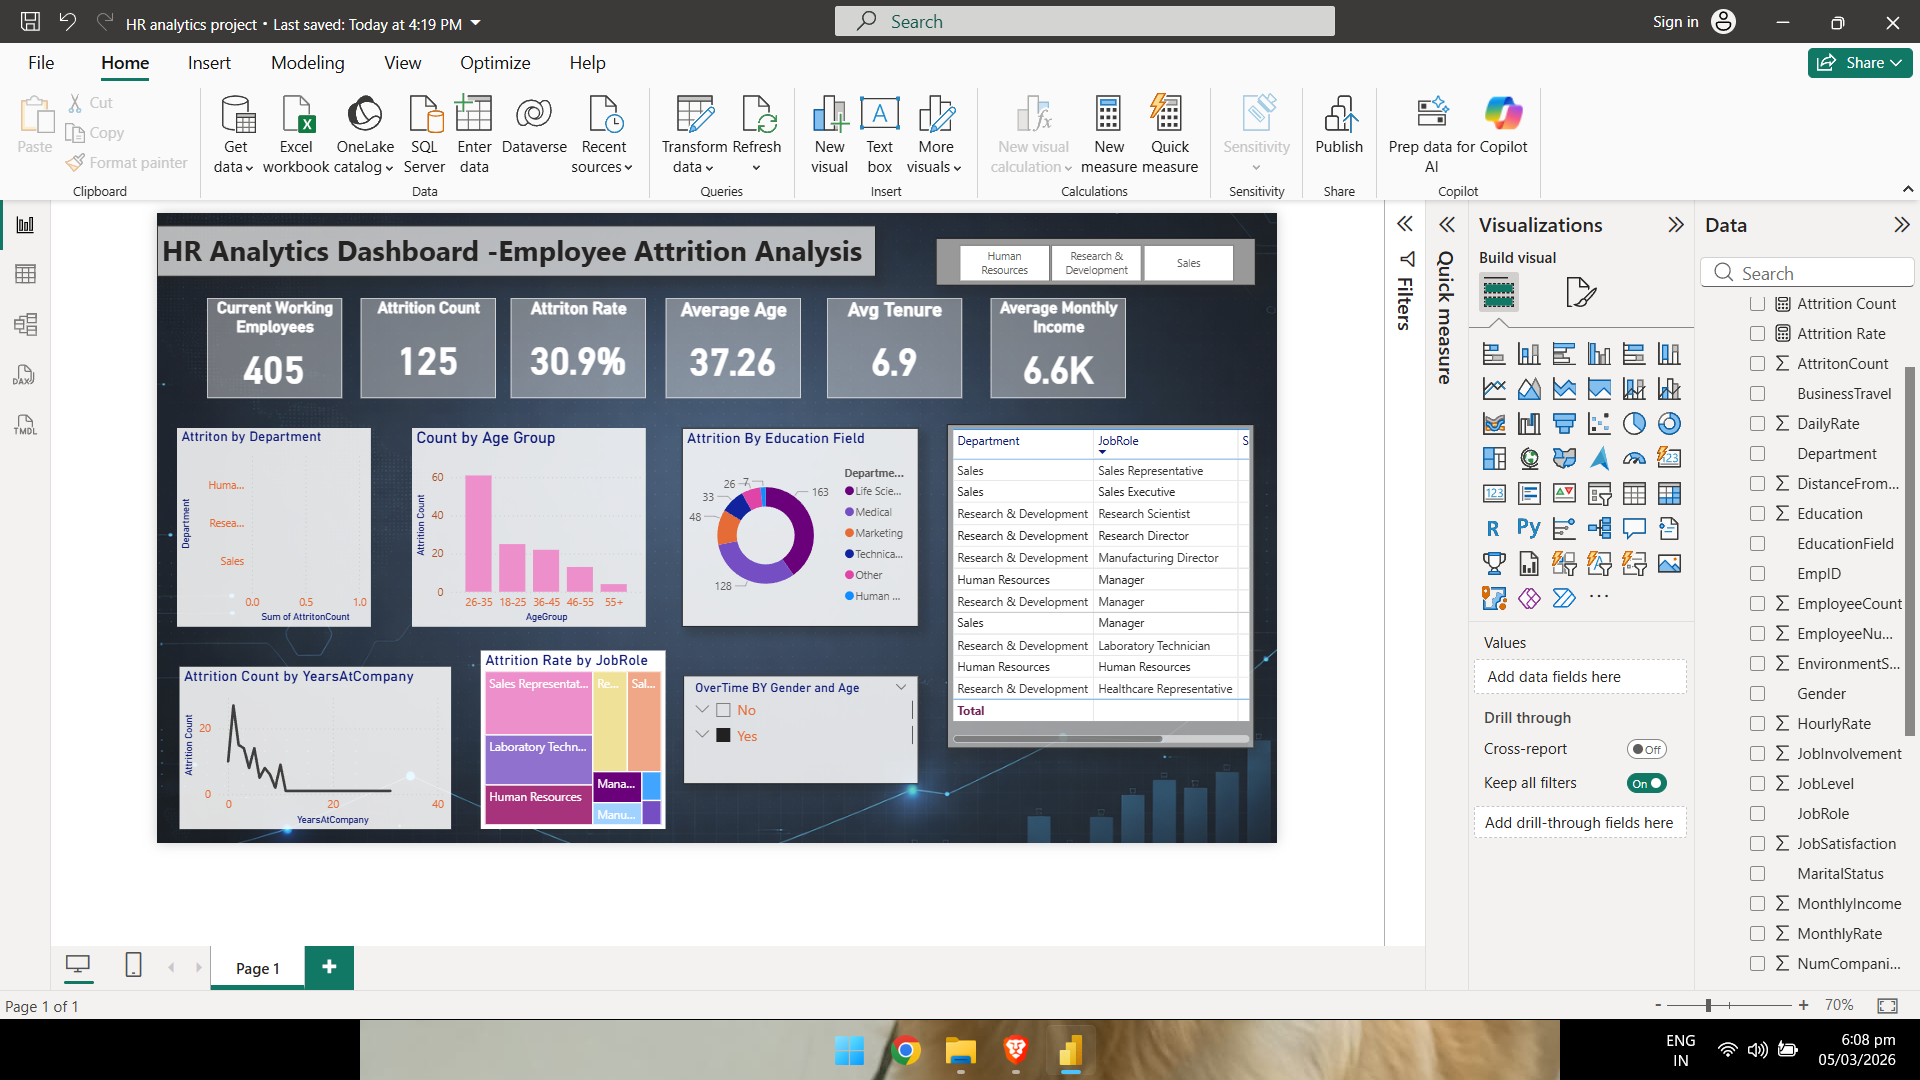

What the dashboard file says about the page in this screenshot:
{"tool":"powerbi","page":{"name":"Page 1","canvas":[1280,720],"ordinal":0},"visuals":[{"type":"card","title":"Current Working Employees","fields":{"Values":["Count(HR_Analytics.EmpID)"]},"box":[57.1,97.1,154.3,114.3],"z":0},{"type":"card","title":"Attriton Rate","fields":{"Values":["HR_Analytics.Attrition Rate"]},"box":[404.3,97.1,154.3,114.3],"z":1000},{"type":"card","title":"Attrition Count","fields":{"Values":["HR_Analytics.Attrition Count"]},"box":[232.9,97.1,154.3,114.3],"z":2000},{"type":"card","title":"Average  Age","fields":{"Values":["Avg(HR_Analytics.Age)"]},"box":[581.4,97.1,154.3,114.3],"z":3000},{"type":"card","title":"Avg Tenure","fields":{"Values":["Avg(HR_Analytics.YearsAtCompany)"]},"box":[765.7,97.1,154.3,114.3],"z":4000},{"type":"card","title":"Average Monthly Income","fields":{"Values":["Avg(HR_Analytics.MonthlyIncome)"]},"box":[952.9,97.1,154.3,114.3],"z":5000},{"type":"barChart","title":" Attriton by Department","fields":{"Category":["HR_Analytics.Department"],"Y":["Sum(HR_Analytics.AttritonCount)"]},"box":[22.9,245.7,221.4,227.1],"z":6000},{"type":"clusteredColumnChart","title":"Attrition by Age Group","fields":{"Category":["HR_Analytics.AgeGroup"],"Y":["HR_Analytics.Attrition Count"]},"box":[291.4,245.7,267.1,227.1],"z":7000},{"type":"donutChart","title":"Attrition By Education Field","fields":{"Category":["HR_Analytics.EducationField"],"Y":["CountNonNull(HR_Analytics.EmpID)"]},"box":[600,245.7,270,227.1],"z":8000},{"type":"tableEx","fields":{"Values":["HR_Analytics.Department","HR_Analytics.JobRole","Sum(HR_Analytics.EmployeeCount)"]},"box":[902.9,241.4,351.4,370],"z":9000},{"type":"lineChart","fields":{"Category":["HR_Analytics.YearsAtCompany"],"Y":["HR_Analytics.Attrition Count"]},"box":[25.7,518.6,310,185.7],"z":10000},{"type":"slicer","fields":{"Values":["HR_Analytics.OverTime","HR_Analytics.Gender","HR_Analytics.Age"]},"box":[601.4,528.6,268.6,124.3],"z":11000},{"type":"treemap","fields":{"Group":["HR_Analytics.JobRole"],"Values":["HR_Analytics.Attrition Rate"]},"box":[370,500,211.4,204.3],"z":12000},{"type":"slicer","fields":{"Values":["HR_Analytics.Department"]},"box":[890,28.6,365.7,54.3],"z":12001},{"type":"textbox","box":[0,14.3,821.4,58.6],"z":12002}]}

Visuals, with their boxes on the page's 1280x720 design canvas (x1, y1, x2, y2). These are canvas units, not pixel positions in the 1920x1080 screenshot, which may show the page scaled, cropped or inside an application window:
"Current Working Employees" card: l=57, t=97, r=211, b=211
"Attriton Rate" card: l=404, t=97, r=559, b=211
"Attrition Count" card: l=233, t=97, r=387, b=211
"Average  Age" card: l=581, t=97, r=736, b=211
"Avg Tenure" card: l=766, t=97, r=920, b=211
"Average Monthly Income" card: l=953, t=97, r=1107, b=211
" Attriton by Department" barChart: l=23, t=246, r=244, b=473
"Attrition by Age Group" clusteredColumnChart: l=291, t=246, r=558, b=473
"Attrition By Education Field" donutChart: l=600, t=246, r=870, b=473
tableEx - HR_Analytics.Department x HR_Analytics.JobRole: l=903, t=241, r=1254, b=611
lineChart - HR_Analytics.YearsAtCompany x HR_Analytics.Attrition Count: l=26, t=519, r=336, b=704
slicer - HR_Analytics.OverTime x HR_Analytics.Gender: l=601, t=529, r=870, b=653
treemap - HR_Analytics.JobRole x HR_Analytics.Attrition Rate: l=370, t=500, r=581, b=704
slicer - HR_Analytics.Department: l=890, t=29, r=1256, b=83
textbox: l=0, t=14, r=821, b=73
